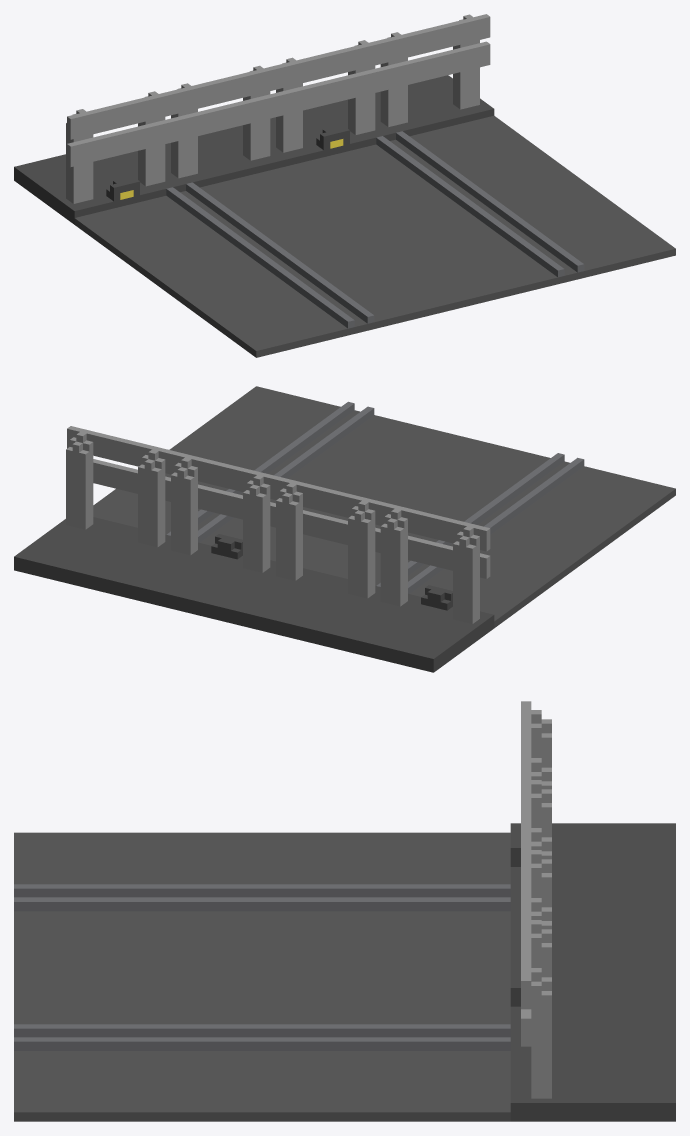
Rendered from MapV3-82.obj.
3 renders of one model, top to bottom at view 1: azimuth 30°, elevation 25°; view 2: azimuth 150°, elevation 25°; view 3: azimuth 270°, elevation 25°, orthographic. The views are drawn at different scales.
Size of the model in its own units: 6.4 by 1.5 by 6.4.
1 material, 1 textured.
